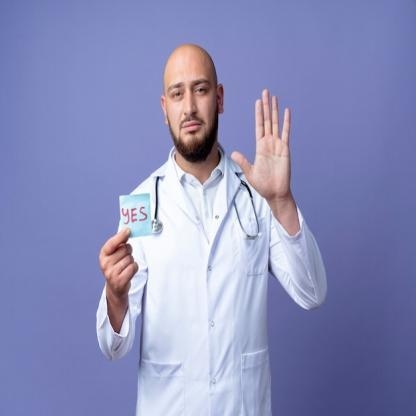stop: (228, 85, 298, 201)
